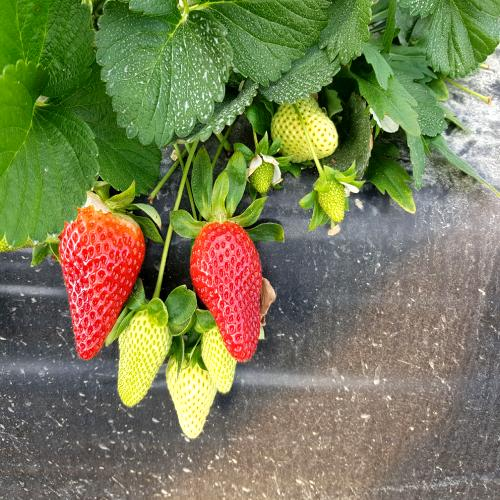ripe: (55, 183, 138, 363), (186, 205, 271, 369)
